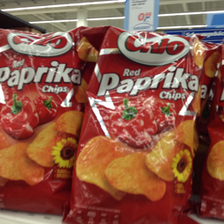chips: (72, 27, 204, 224), (1, 28, 83, 214)
